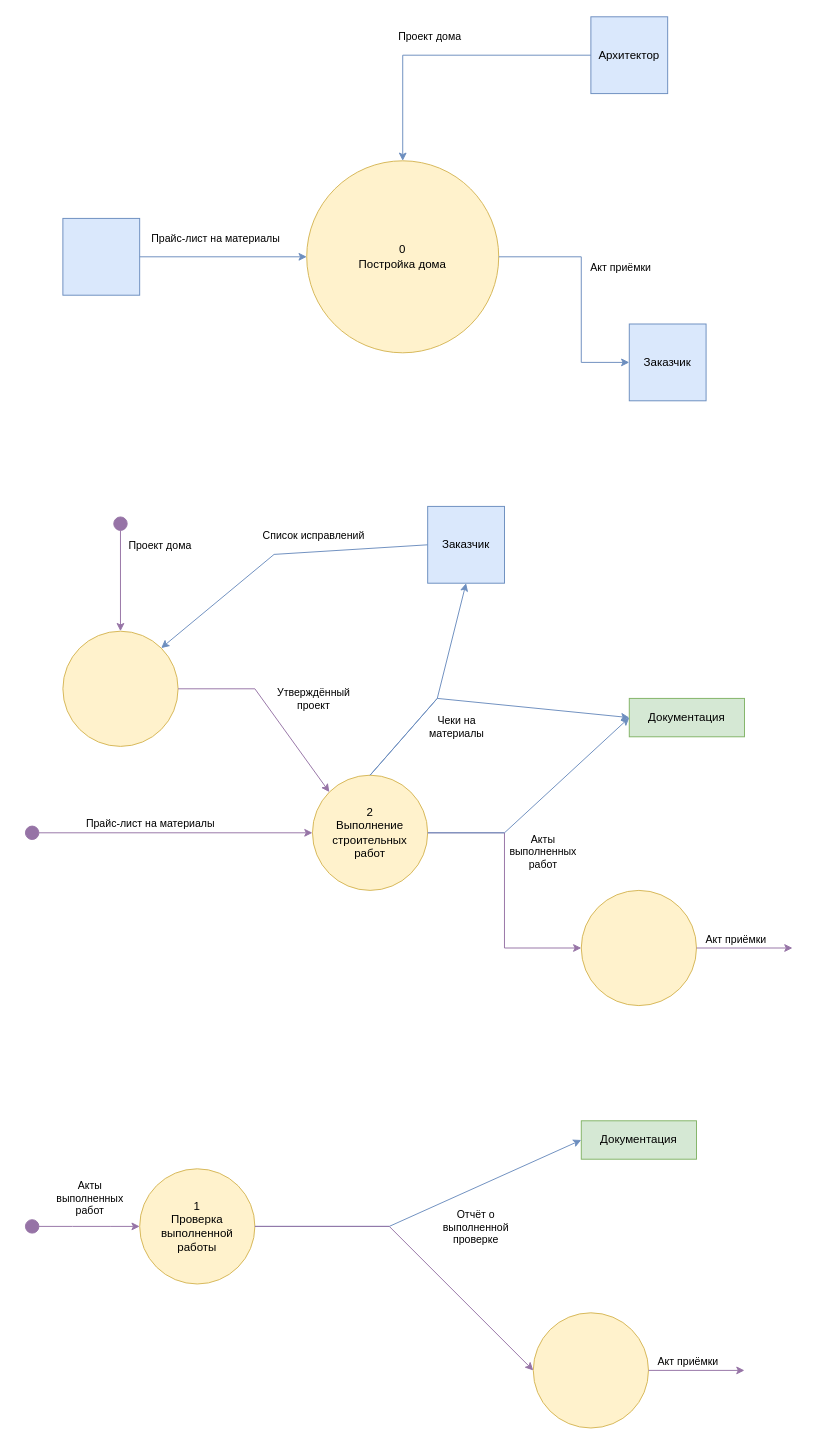
This 817x1445 diagram has some shape labels left out. The shapes that lost their labels are listed below. From the top down, each one's centre as x and y in pixels, then its label:
pixel 101 256: Магазин
pixel 120 688: 1 Согласование проекта
pixel 638 947: 3 Сдача работ
pixel 590 1370: 2 Подтверждение выполнения работы
